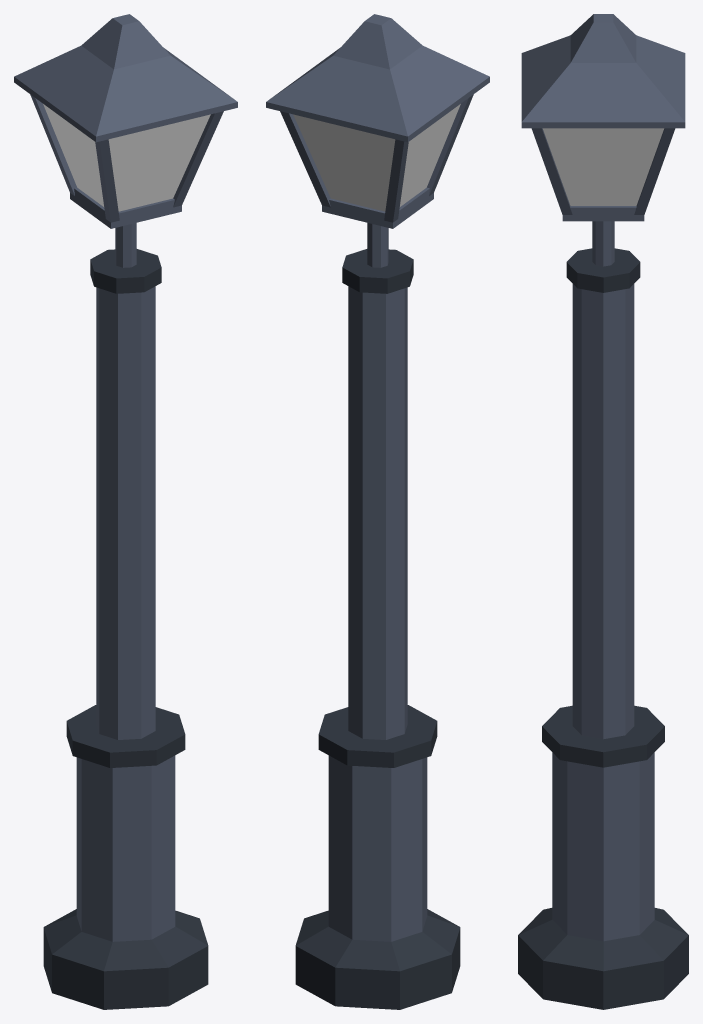
File: city_light.glb
3 renders of one model, left to right at view 1: azimuth 30°, elevation 25°; view 2: azimuth 150°, elevation 25°; view 3: azimuth 270°, elevation 25°, orthographic.
Parts seen in each view (by area): view 1: Cylinder, Cube; view 2: Cylinder, Cube; view 3: Cylinder, Cube.
Boxes of the visible parts, left/top/right/bottom form: Cylinder: left=14, top=14, right=237, bottom=1009; Cube: left=43, top=104, right=210, bottom=211; Cylinder: left=266, top=14, right=489, bottom=1009; Cube: left=293, top=104, right=460, bottom=211; Cylinder: left=518, top=14, right=688, bottom=1009; Cube: left=542, top=128, right=664, bottom=205.
Bounding box in the file's own units: 2 × 12.35 × 2.
2 materials, 2 textured.
